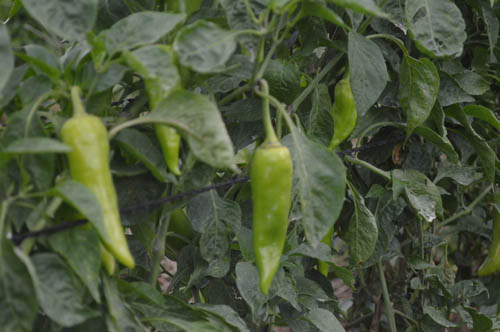ChiliPepper: (66, 118, 137, 264), (249, 148, 290, 291), (148, 60, 179, 173), (328, 81, 359, 147)
